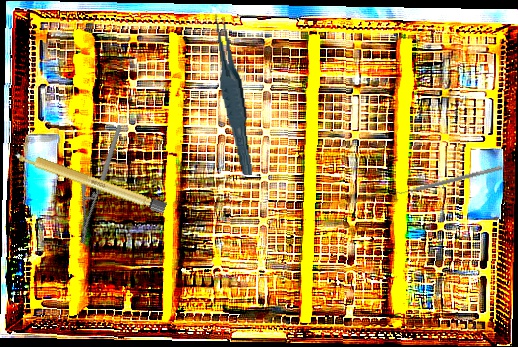Needle Holder: (48, 124, 155, 245)
Scalpel Handle: (12, 148, 168, 214)
Spatula Surgical: (393, 160, 503, 199)
Tissue Forceps: (212, 10, 255, 177)
